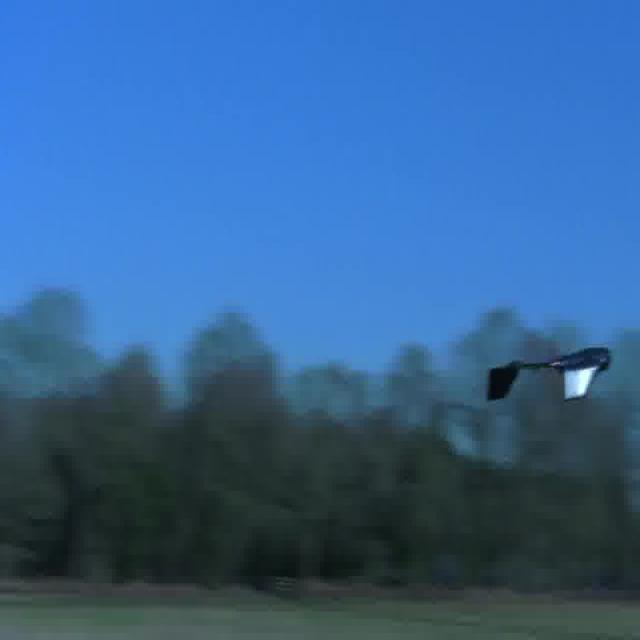iha: (472, 363, 616, 389)
